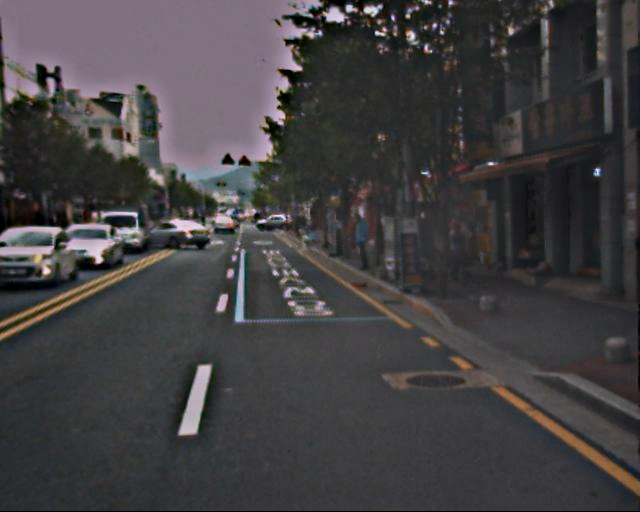person: (442, 218, 467, 279), (349, 210, 372, 265), (374, 212, 391, 254)
